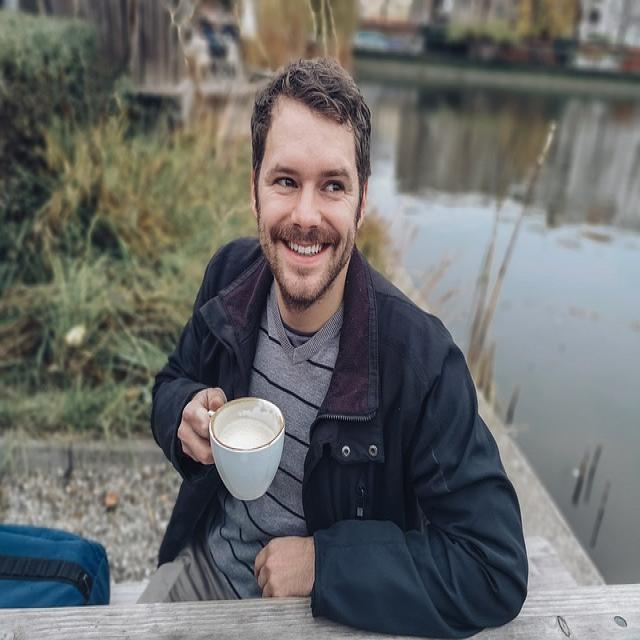Real human 2: (140, 47, 541, 640)
